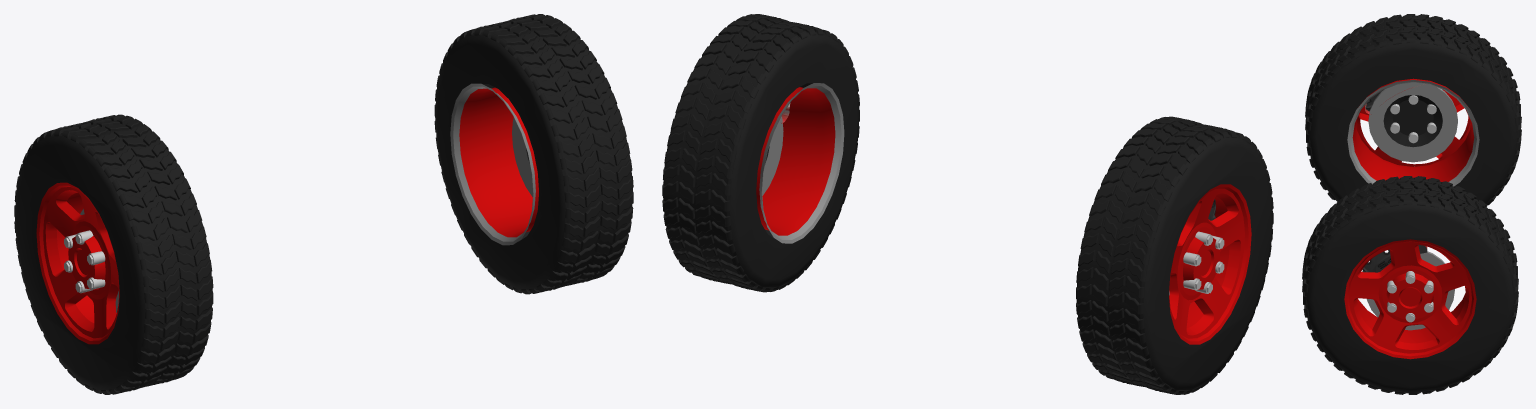
File: Llantas_Del.obj
3 renders of one model, left to right at view 1: azimuth 30°, elevation 25°; view 2: azimuth 150°, elevation 25°; view 3: azimuth 270°, elevation 25°, orthographic. The views are drawn at different scales.
Visible parts, largest first — view 1: Mesh296 Gummi1_1_1 Rad1_1_1 Component_54_1 Component_64_1 Model, Mesh599 Gummi1_1_2 Rad1_1_2 Component_54_1 Component_64_1 Model, Mesh601 Group_85_2 Rad1_1_2 Component_54_1 Component_64_1 Model, Mesh297 Component_137_1 Group_85_1 Rad1_1_1 Component_54_1 Compo, Mesh298 Group_85_1 Rad1_1_1 Component_54_1 Component_64_1 Model, Mesh294 Group_52_1 Component_53_1 Group1 Gummi1_1_1 Rad1_1_1 Com, Mesh606 Group4 disk_brake_1_2 disk_brake_3_2 Rad1_1_2 Component_; view 2: Mesh296 Gummi1_1_1 Rad1_1_1 Component_54_1 Component_64_1 Model, Mesh599 Gummi1_1_2 Rad1_1_2 Component_54_1 Component_64_1 Model, Mesh601 Group_85_2 Rad1_1_2 Component_54_1 Component_64_1 Model, Mesh297 Component_137_1 Group_85_1 Rad1_1_1 Component_54_1 Compo, Mesh298 Group_85_1 Rad1_1_1 Component_54_1 Component_64_1 Model, Mesh294 Group_52_1 Component_53_1 Group1 Gummi1_1_1 Rad1_1_1 Com, Mesh606 Group4 disk_brake_1_2 disk_brake_3_2 Rad1_1_2 Component_; view 3: Mesh599 Gummi1_1_2 Rad1_1_2 Component_54_1 Component_64_1 Model, Mesh296 Gummi1_1_1 Rad1_1_1 Component_54_1 Component_64_1 Model, Mesh600 Component_137_2 Group_85_2 Rad1_1_2 Component_54_1 Compo, Mesh303 Group2 disk_brake_1_1 disk_brake_3_1 Rad1_1_1 Component_, Mesh298 Group_85_1 Rad1_1_1 Component_54_1 Component_64_1 Model, Mesh601 Group_85_2 Rad1_1_2 Component_54_1 Component_64_1 Model, Mesh597 Group_52_2 Component_53_2 Group3 Gummi1_1_2 Rad1_1_2 Com, Mesh297 Component_137_1 Group_85_1 Rad1_1_1 Component_54_1 Compo, Mesh606 Group4 disk_brake_1_2 disk_brake_3_2 Rad1_1_2 Component_, Mesh605 caliper_1_2 Group4 disk_brake_1_2 disk_brake_3_2 Rad1_1_.
Boxes of the visible parts, x1,y1,x2,y2 form: Mesh296 Gummi1_1_1 Rad1_1_1 Component_54_1 Component_64_1 Model: (14, 120, 212, 391); Mesh599 Gummi1_1_2 Rad1_1_2 Component_54_1 Component_64_1 Model: (435, 19, 632, 291); Mesh601 Group_85_2 Rad1_1_2 Component_54_1 Component_64_1 Model: (450, 83, 538, 245); Mesh297 Component_137_1 Group_85_1 Rad1_1_1 Component_54_1 Compo: (43, 187, 119, 338); Mesh298 Group_85_1 Rad1_1_1 Component_54_1 Component_64_1 Model: (36, 182, 119, 344); Mesh294 Group_52_1 Component_53_1 Group1 Gummi1_1_1 Rad1_1_1 Com: (68, 231, 105, 289); Mesh606 Group4 disk_brake_1_2 disk_brake_3_2 Rad1_1_2 Component_: (512, 117, 533, 197); Mesh296 Gummi1_1_1 Rad1_1_1 Component_54_1 Component_64_1 Model: (1076, 124, 1273, 391); Mesh599 Gummi1_1_2 Rad1_1_2 Component_54_1 Component_64_1 Model: (663, 22, 859, 289); Mesh601 Group_85_2 Rad1_1_2 Component_54_1 Component_64_1 Model: (756, 83, 844, 243); Mesh297 Component_137_1 Group_85_1 Rad1_1_1 Component_54_1 Compo: (1169, 188, 1244, 338); Mesh298 Group_85_1 Rad1_1_1 Component_54_1 Component_64_1 Model: (1169, 184, 1251, 344); Mesh294 Group_52_1 Component_53_1 Group1 Gummi1_1_1 Rad1_1_1 Com: (1183, 232, 1219, 290); Mesh606 Group4 disk_brake_1_2 disk_brake_3_2 Rad1_1_2 Component_: (762, 116, 783, 195); Mesh599 Gummi1_1_2 Rad1_1_2 Component_54_1 Component_64_1 Model: (1304, 177, 1515, 393); Mesh296 Gummi1_1_1 Rad1_1_1 Component_54_1 Component_64_1 Model: (1307, 15, 1518, 203); Mesh600 Component_137_2 Group_85_2 Rad1_1_2 Component_54_1 Compo: (1349, 242, 1471, 353); Mesh303 Group2 disk_brake_1_1 disk_brake_3_1 Rad1_1_1 Component_: (1368, 82, 1457, 162); Mesh298 Group_85_1 Rad1_1_1 Component_54_1 Component_64_1 Model: (1347, 78, 1479, 186); Mesh601 Group_85_2 Rad1_1_2 Component_54_1 Component_64_1 Model: (1344, 239, 1476, 359); Mesh597 Group_52_2 Component_53_2 Group3 Gummi1_1_2 Rad1_1_2 Com: (1386, 273, 1434, 316); Mesh297 Component_137_1 Group_85_1 Rad1_1_1 Component_54_1 Compo: (1356, 89, 1470, 166); Mesh606 Group4 disk_brake_1_2 disk_brake_3_2 Rad1_1_2 Component_: (1366, 251, 1454, 330); Mesh605 caliper_1_2 Group4 disk_brake_1_2 disk_brake_3_2 Rad1_1_: (1362, 245, 1427, 272).
Size of the model in its own units: 69.06 by 33.31 by 33.77.
9 materials, 1 textured.
